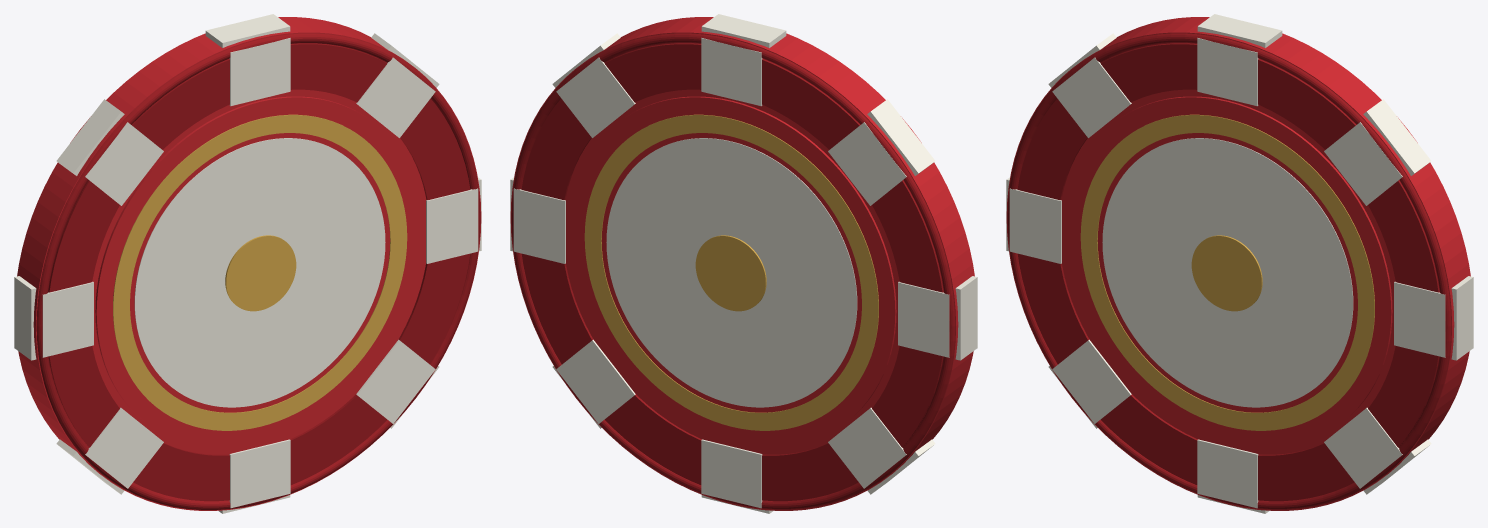
Rendered from poker_chip.glb.
3 renders of one model, left to right at view 1: azimuth 30°, elevation 25°; view 2: azimuth 150°, elevation 25°; view 3: azimuth 330°, elevation 25°, orthographic.
Visible parts, largest first — view 1: top_medallion, top_face_rim, top_center, body, top_medallion_ring, top_lip, top_center_pip, top_tab_0, top_tab_7, top_tab_6, top_tab_4, top_tab_5 (+6 smaller); view 2: bottom_medallion, bottom_face_rim, bottom_center, body, bottom_medallion_ring, bottom_lip, bottom_center_pip, bottom_tab_0, bottom_tab_7, bottom_tab_6, bottom_tab_4, bottom_tab_5 (+6 smaller); view 3: top_medallion, top_face_rim, top_center, body, top_medallion_ring, top_lip, top_center_pip, top_tab_4, top_tab_5, top_tab_6, top_tab_0, top_tab_7 (+6 smaller).
Part boxes in pixels (bbox=[...]): top_medallion: bbox=[134, 138, 385, 407]; top_face_rim: bbox=[48, 43, 470, 501]; top_center: bbox=[95, 96, 422, 447]; body: bbox=[17, 17, 481, 510]; top_medallion_ring: bbox=[113, 114, 407, 430]; top_lip: bbox=[36, 33, 480, 510]; top_center_pip: bbox=[225, 235, 296, 311]; top_tab_0: bbox=[426, 188, 478, 263]; top_tab_7: bbox=[356, 339, 435, 423]; top_tab_6: bbox=[229, 439, 290, 508]; top_tab_4: bbox=[42, 281, 93, 357]; top_tab_5: bbox=[85, 407, 163, 488]; bottom_medallion: bbox=[606, 138, 857, 407]; bottom_face_rim: bbox=[521, 43, 943, 501]; bottom_center: bbox=[569, 96, 896, 447]; body: bbox=[510, 17, 974, 510]; bottom_medallion_ring: bbox=[584, 114, 878, 430]; bottom_lip: bbox=[511, 33, 955, 510]; bottom_center_pip: bbox=[695, 235, 766, 311]; bottom_tab_0: bbox=[513, 188, 565, 263]; bottom_tab_7: bbox=[556, 339, 635, 423]; bottom_tab_6: bbox=[701, 439, 762, 508]; bottom_tab_4: bbox=[898, 281, 949, 357]; bottom_tab_5: bbox=[828, 407, 906, 488]; top_medallion: bbox=[1102, 138, 1353, 407]; top_face_rim: bbox=[1017, 43, 1439, 501]; top_center: bbox=[1065, 96, 1392, 447]; body: bbox=[1006, 17, 1470, 510]; top_medallion_ring: bbox=[1080, 114, 1374, 430]; top_lip: bbox=[1007, 33, 1451, 510]; top_center_pip: bbox=[1191, 235, 1262, 311]; top_tab_4: bbox=[1009, 188, 1061, 263]; top_tab_5: bbox=[1052, 339, 1131, 423]; top_tab_6: bbox=[1197, 439, 1258, 508]; top_tab_0: bbox=[1394, 281, 1445, 357]; top_tab_7: bbox=[1324, 407, 1402, 488].
Bounding box in the file's own units: 0.0404 × 0.0404 × 0.00412.
